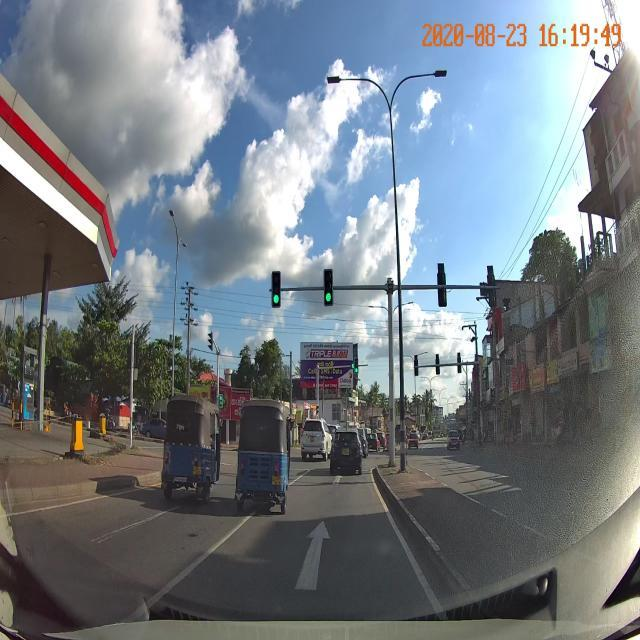forward: (165, 510, 443, 605)
